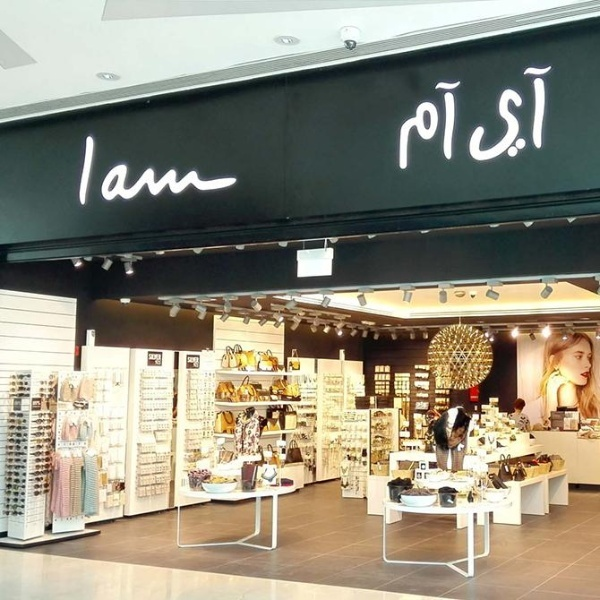text: (481, 61, 496, 163), (497, 61, 512, 163), (513, 61, 528, 163), (529, 61, 544, 163), (401, 80, 416, 172), (417, 80, 432, 172), (433, 80, 448, 172), (449, 80, 463, 172), (81, 133, 97, 210), (469, 61, 480, 163), (545, 61, 552, 163), (225, 163, 241, 206), (113, 163, 128, 206), (129, 163, 144, 206), (145, 163, 160, 206), (161, 163, 176, 206), (177, 163, 192, 206), (193, 163, 208, 206), (209, 163, 224, 206), (98, 163, 112, 206), (397, 80, 400, 172), (78, 133, 80, 210)
